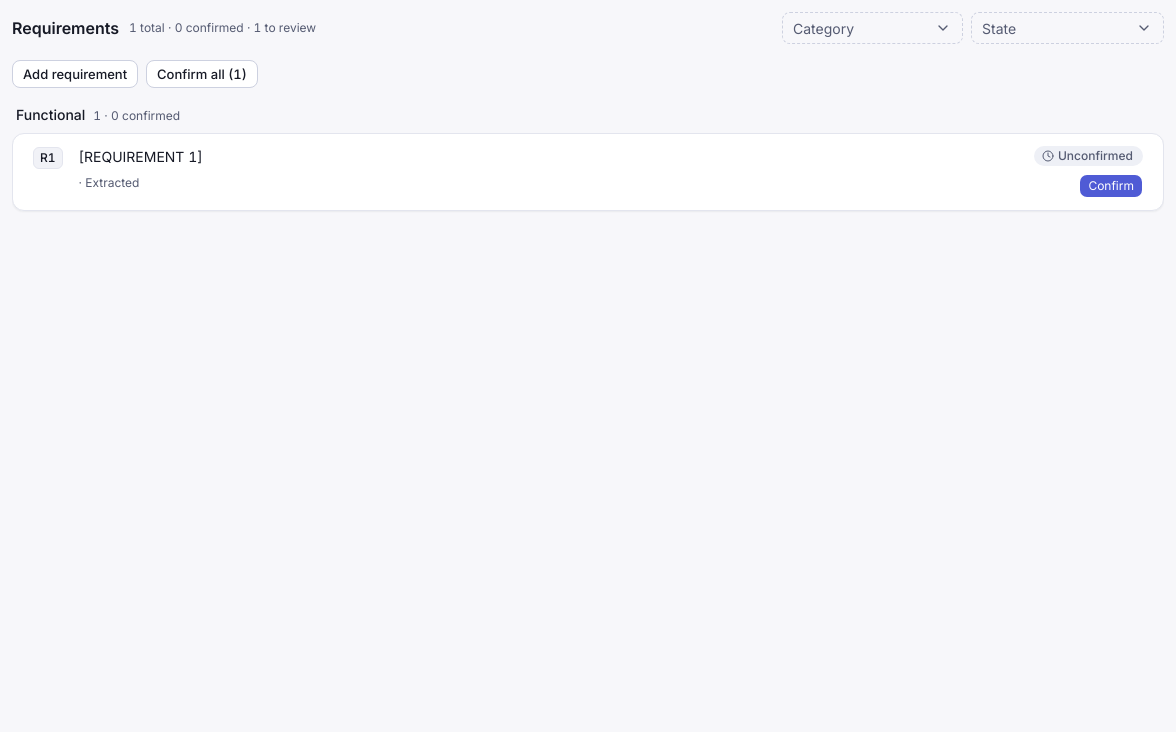
Test: editing Requirements inline › a saved edit reads the outdated Assessments notice again
The image size is (1176, 732).
Double-click the button "[REQUIREMENT 1]" at coordinates (141, 156), box [79, 146, 1018, 167]
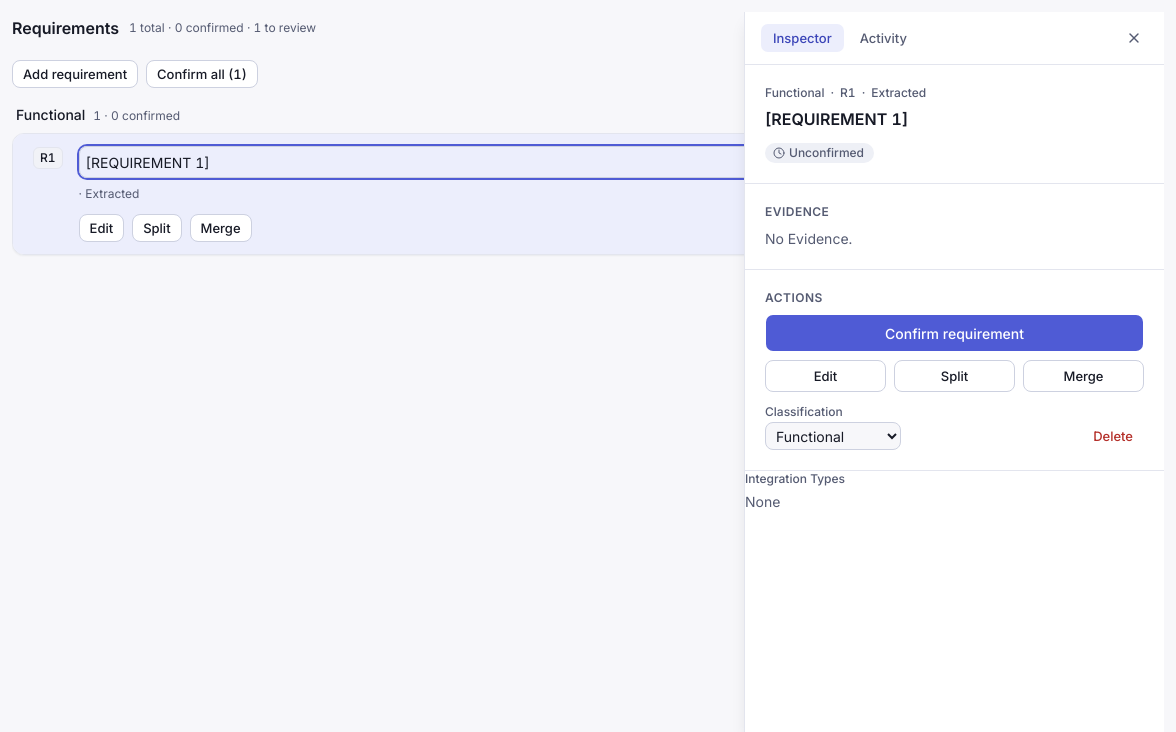
Replace the text in the field named "Requirement text" with "New wording." at coordinates (548, 162), box [79, 146, 1018, 178]
Then press Enter
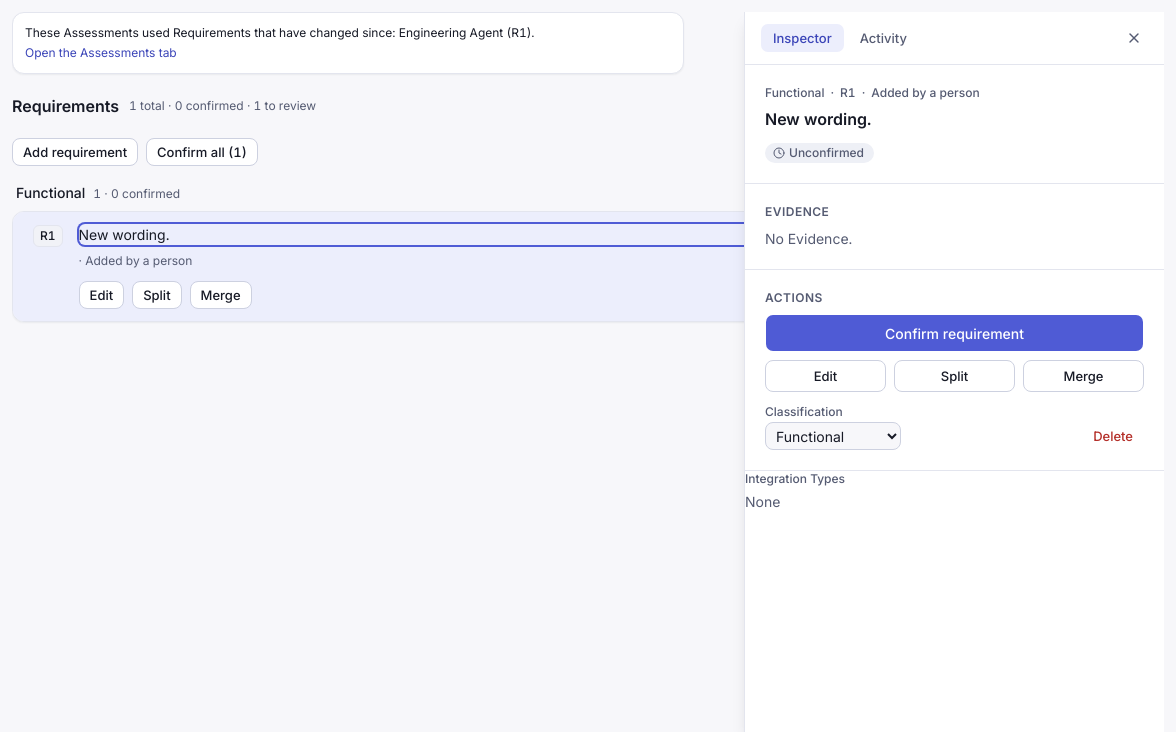
Expected: the element with test id "outdated-assessments" is shown, [12, 12, 684, 74]
